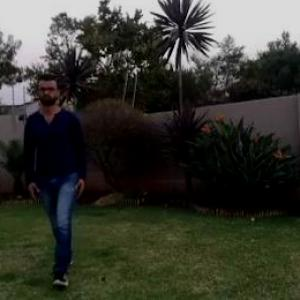follow: (34, 76, 86, 259)
